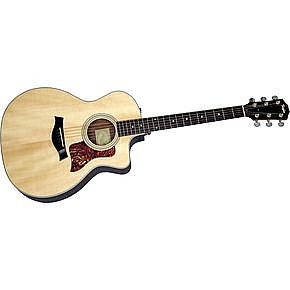guitar: (1, 87, 289, 204)
